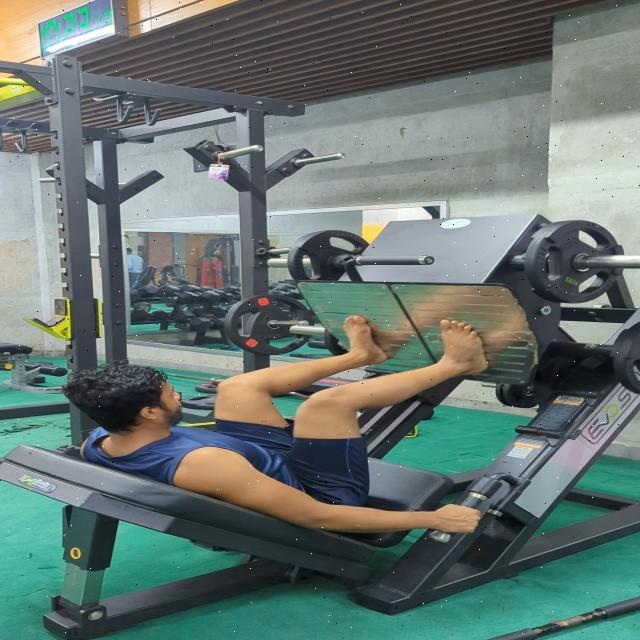Normal_LegPress: (59, 308, 516, 542)
